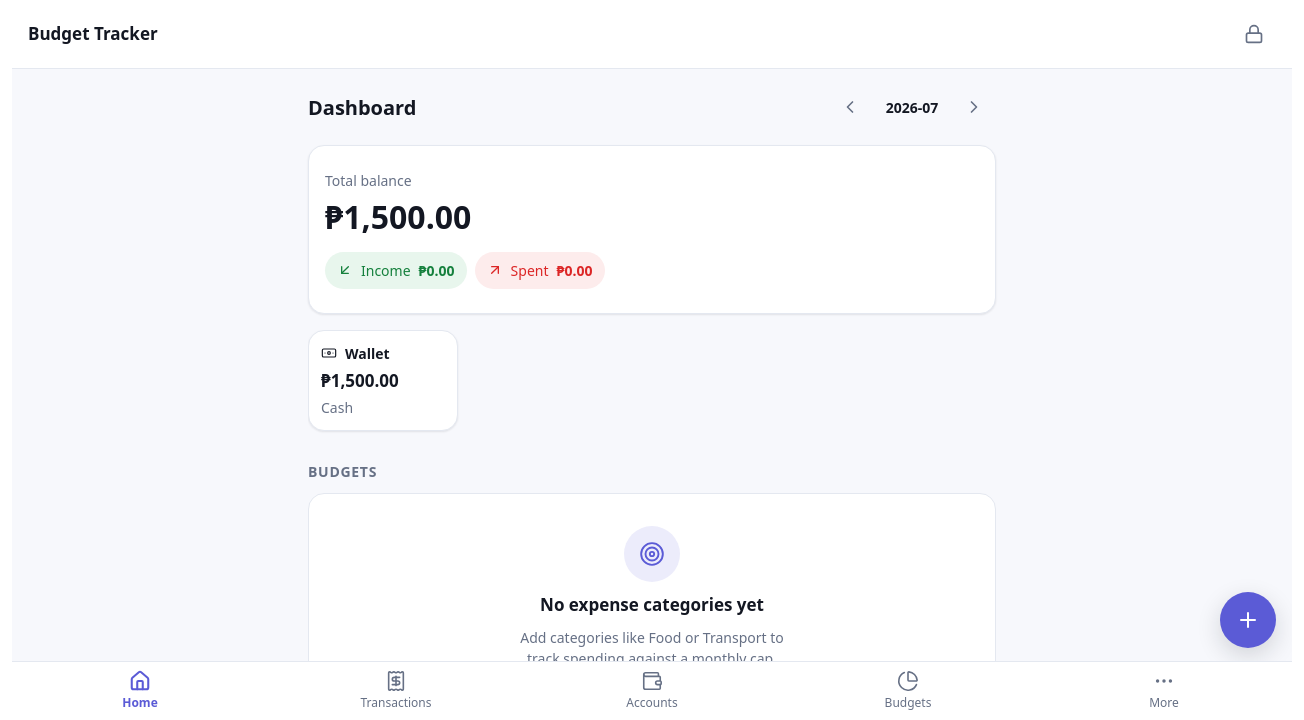
Test: AccountsScreen › edits an account name
Expected: the button named "Lock" is shown, [1232,12,1276,56]
Click the button "Accounts": (652, 691) [524,662,780,719]
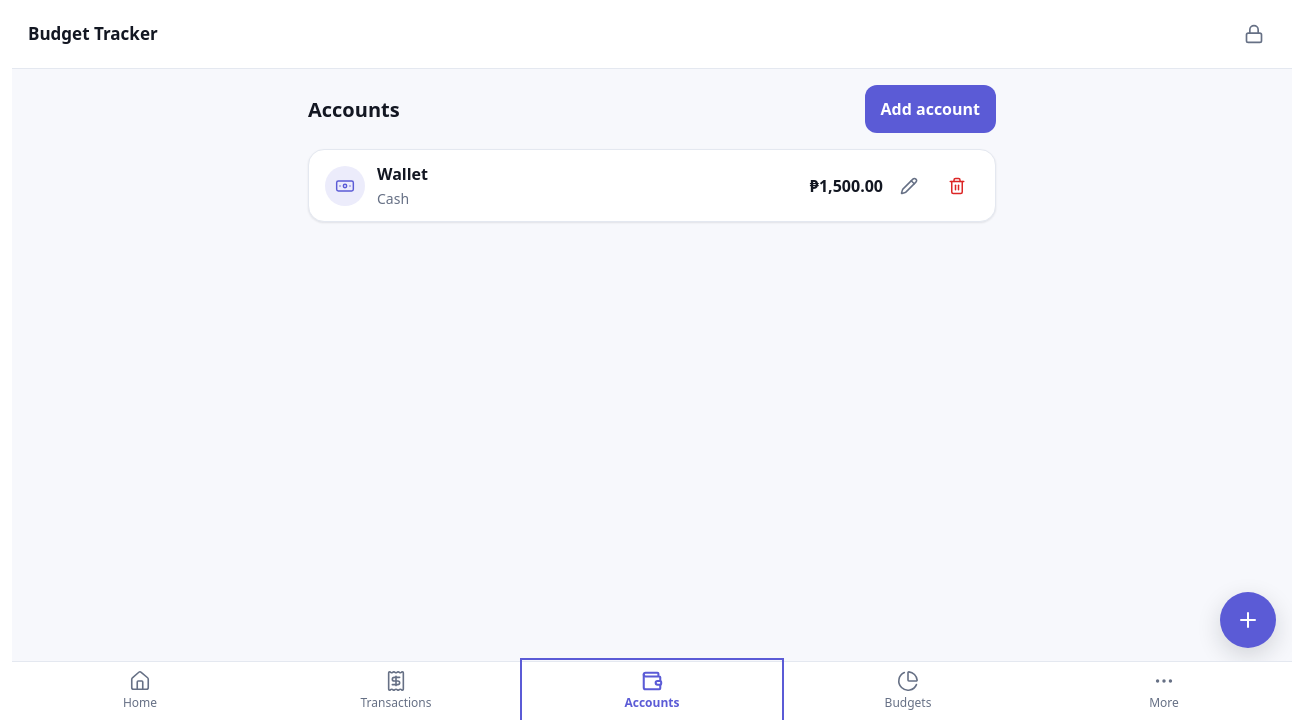
Click the button named "Edit Wallet": (909, 186) [887,164,931,208]
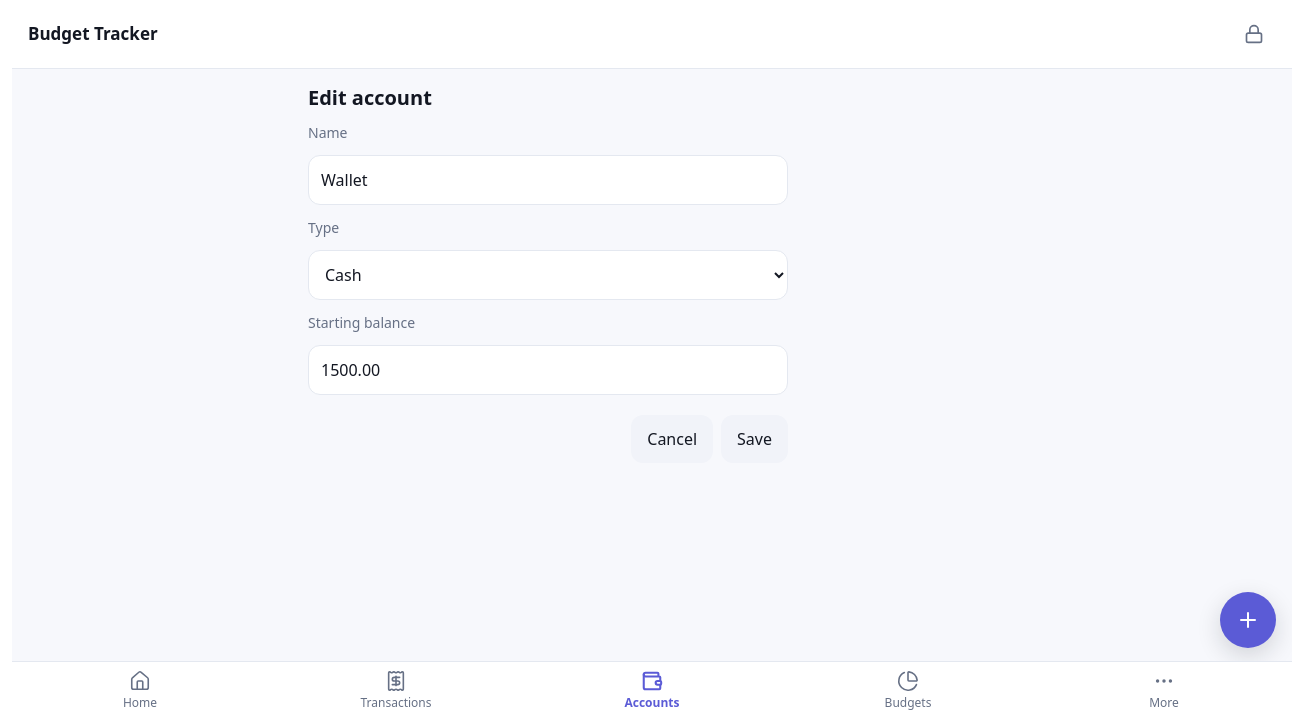
Replace the text in the field labelled "Name" with "Cash Wallet": (548, 180) [308,155,788,205]
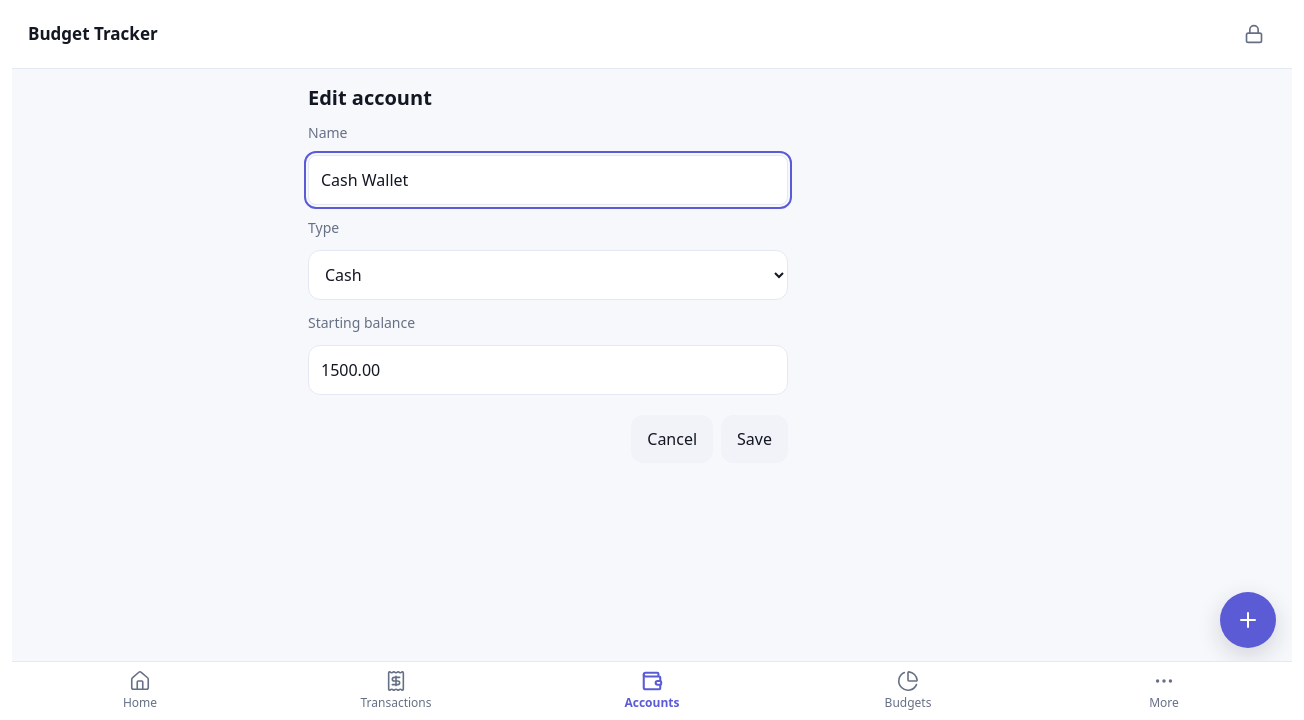
Click the button "Save": (755, 439) [721,415,788,463]
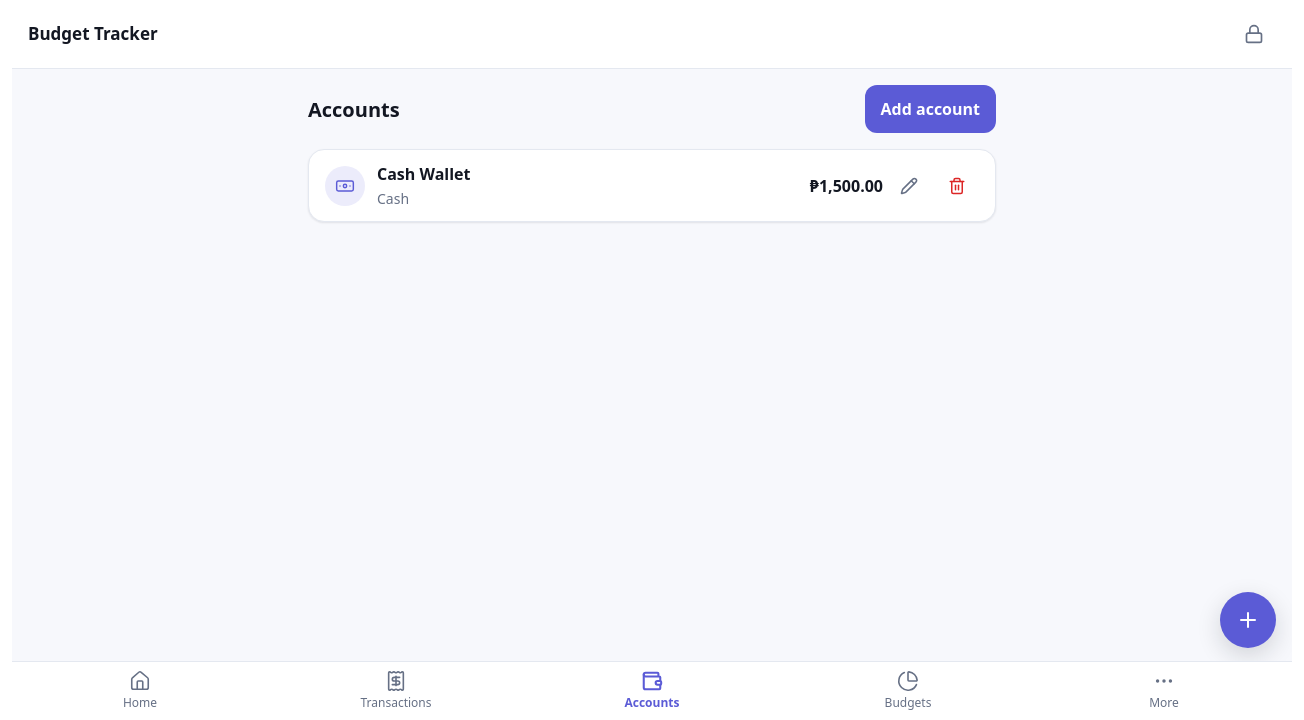
Result: the text "Cash Wallet" is shown at [377,162,470,186]
